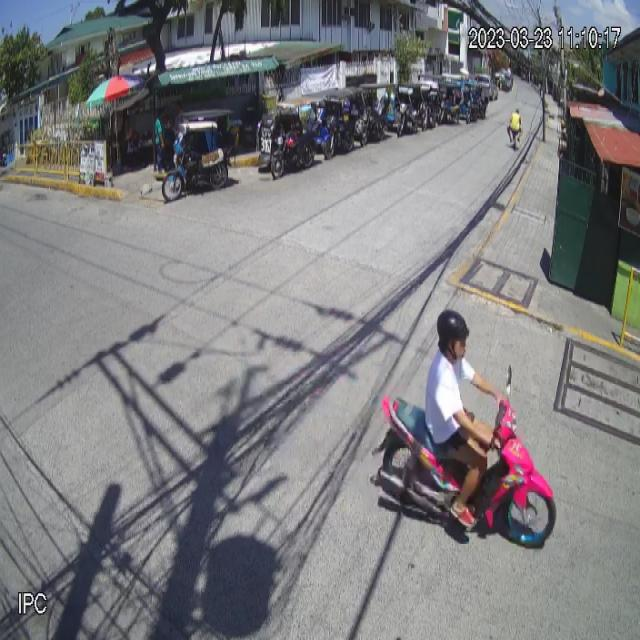Motorcycle: (373, 366, 555, 546)
